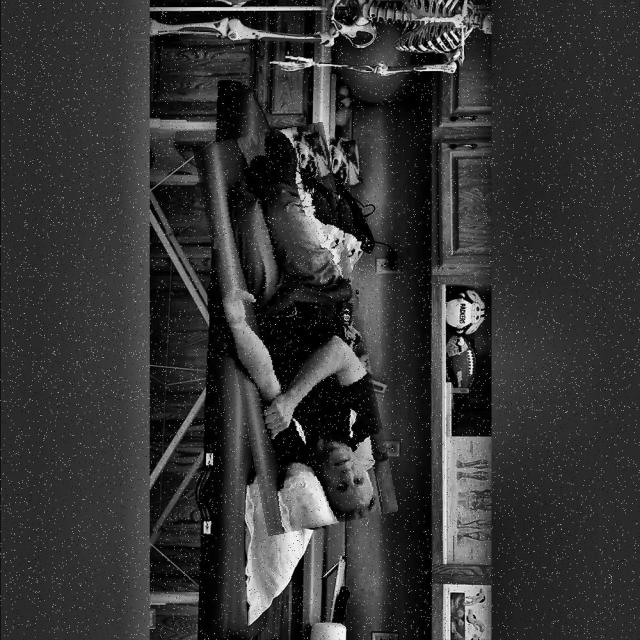Not_Supine: (223, 131, 382, 522)
